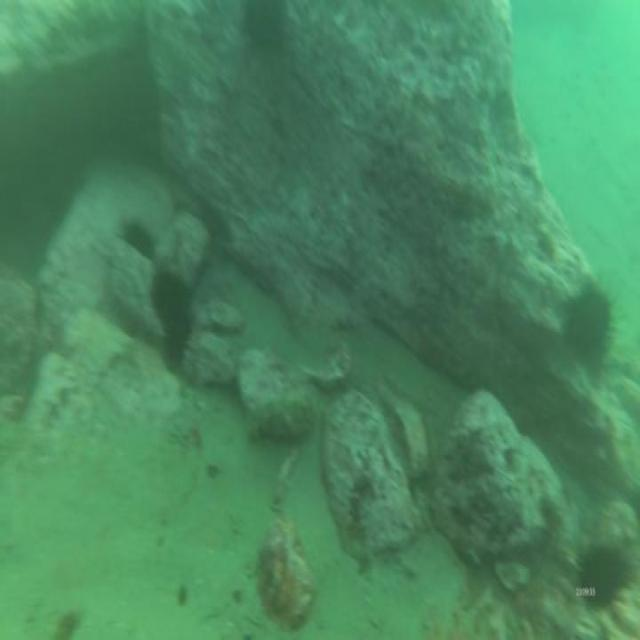echinus: (552, 270, 616, 379), (572, 526, 634, 613), (152, 262, 195, 351)
holothurian: (250, 379, 316, 438)
